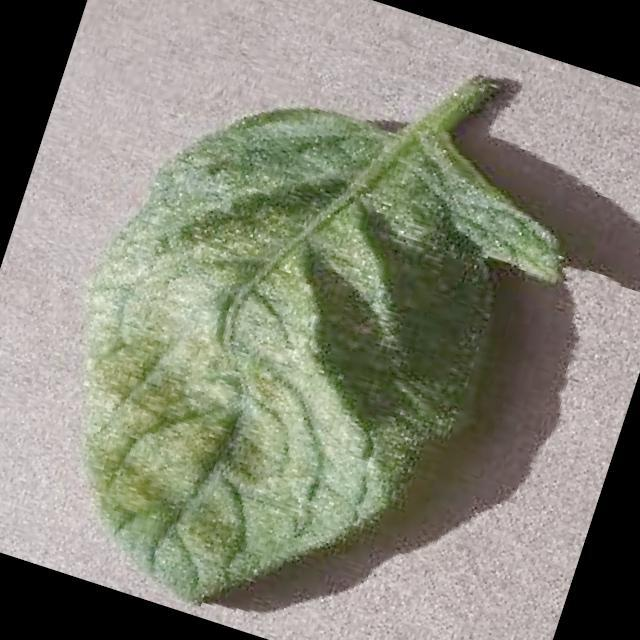Tomato spider mites leaf: (4, 47, 592, 640)
